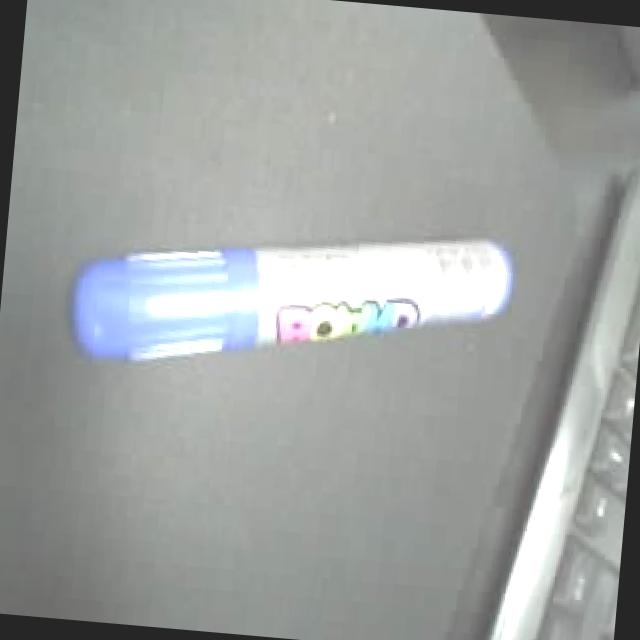board-marker: (60, 233, 519, 382)
